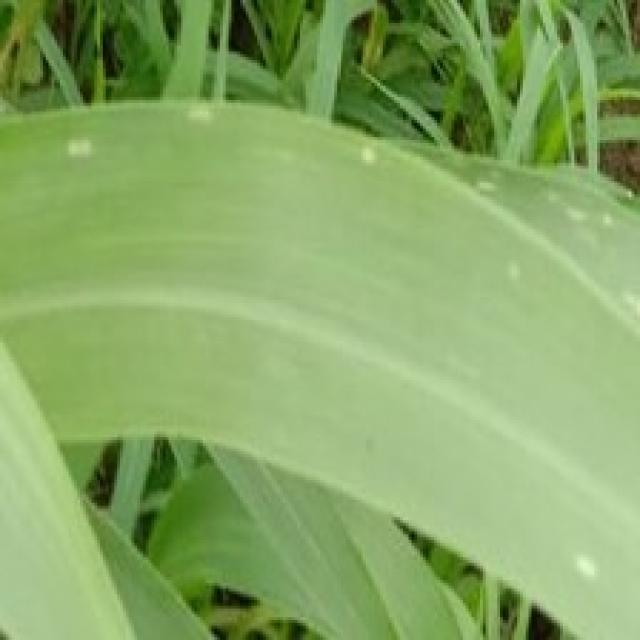Corn: (0, 94, 637, 637)
